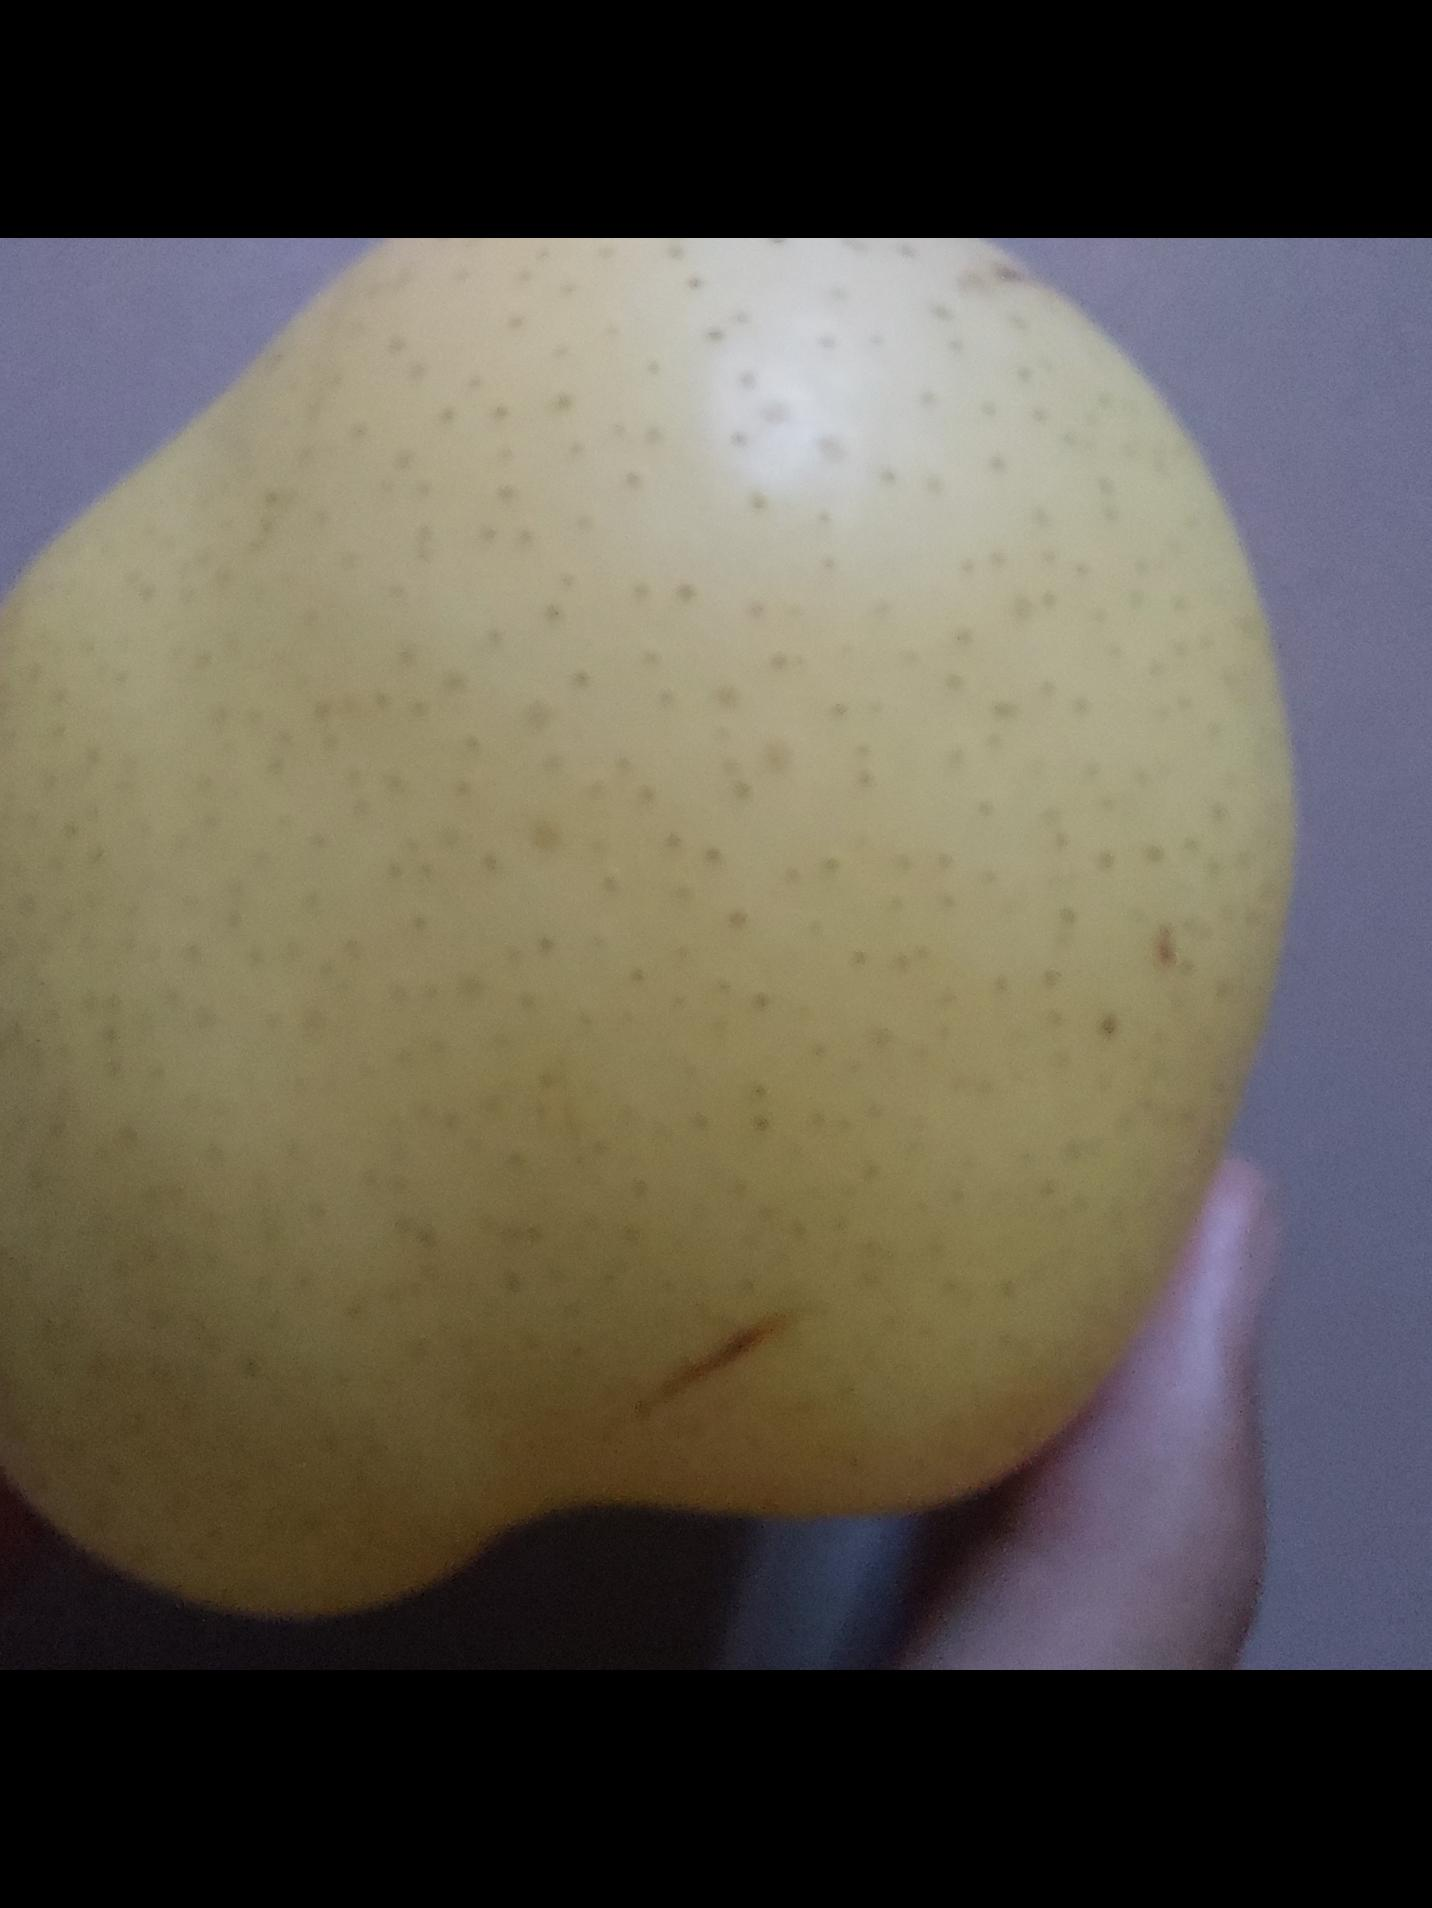Good Pear: (0, 238, 1306, 1618)
